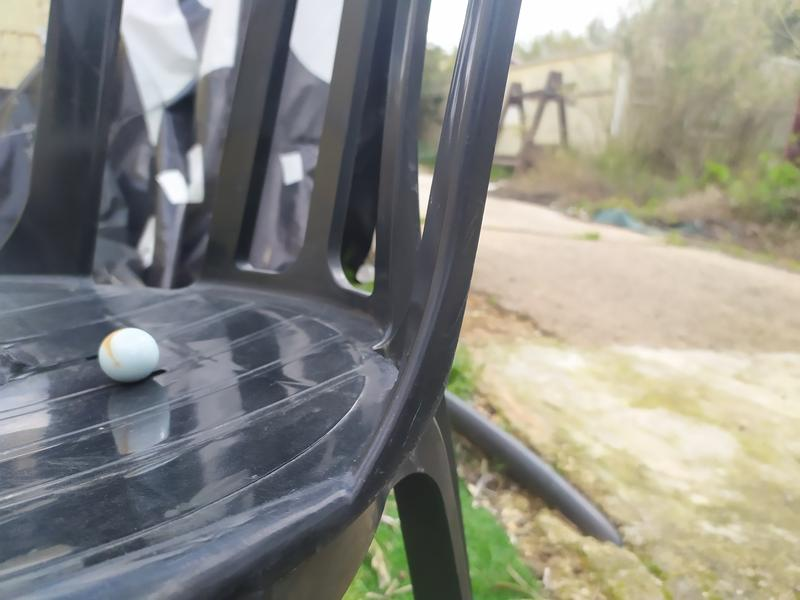Warning: (95, 324, 162, 386)
